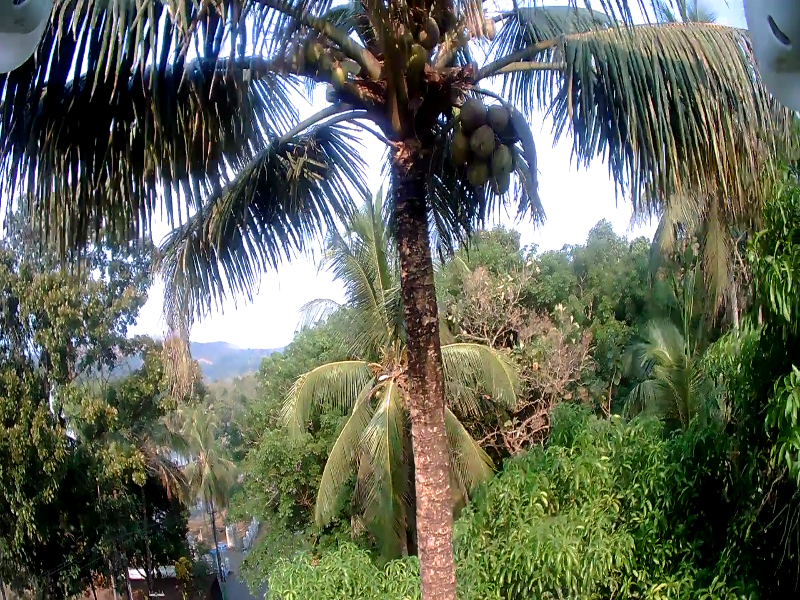coconut: (484, 161, 514, 196), (460, 98, 486, 129), (469, 129, 495, 160), (412, 20, 445, 43), (460, 160, 488, 185), (489, 147, 513, 173), (401, 43, 427, 67), (490, 100, 508, 133), (285, 45, 305, 72), (450, 127, 464, 160), (316, 46, 334, 70), (331, 66, 346, 90), (303, 40, 321, 60), (483, 19, 498, 40)
